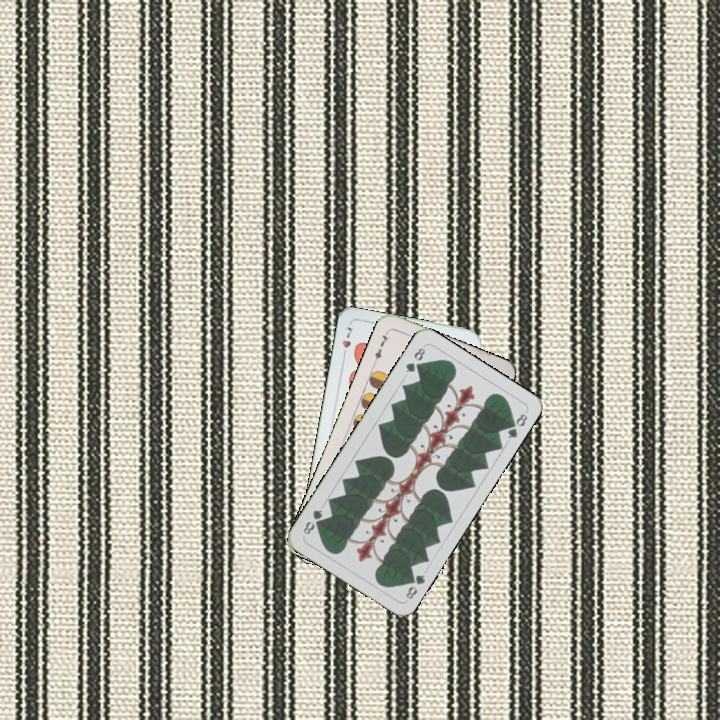E7: (370, 327, 392, 366)
G8: (401, 344, 428, 375), (402, 570, 428, 602)
H7: (338, 323, 355, 362)
